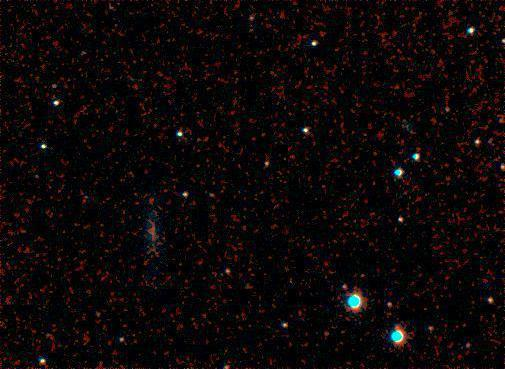star: (346, 256, 376, 286)
